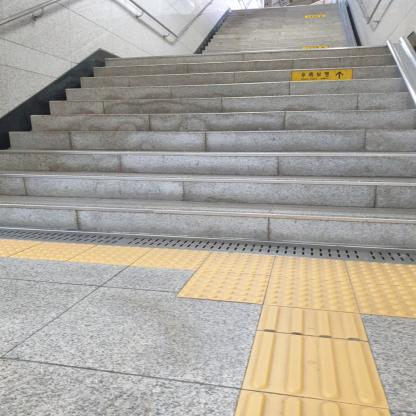go: (242, 330, 389, 409)
stop: (263, 276, 360, 313), (176, 270, 270, 303), (352, 282, 416, 318), (270, 255, 351, 282), (129, 247, 213, 270), (197, 251, 276, 275), (7, 241, 97, 262), (66, 245, 154, 266), (345, 260, 416, 286)
